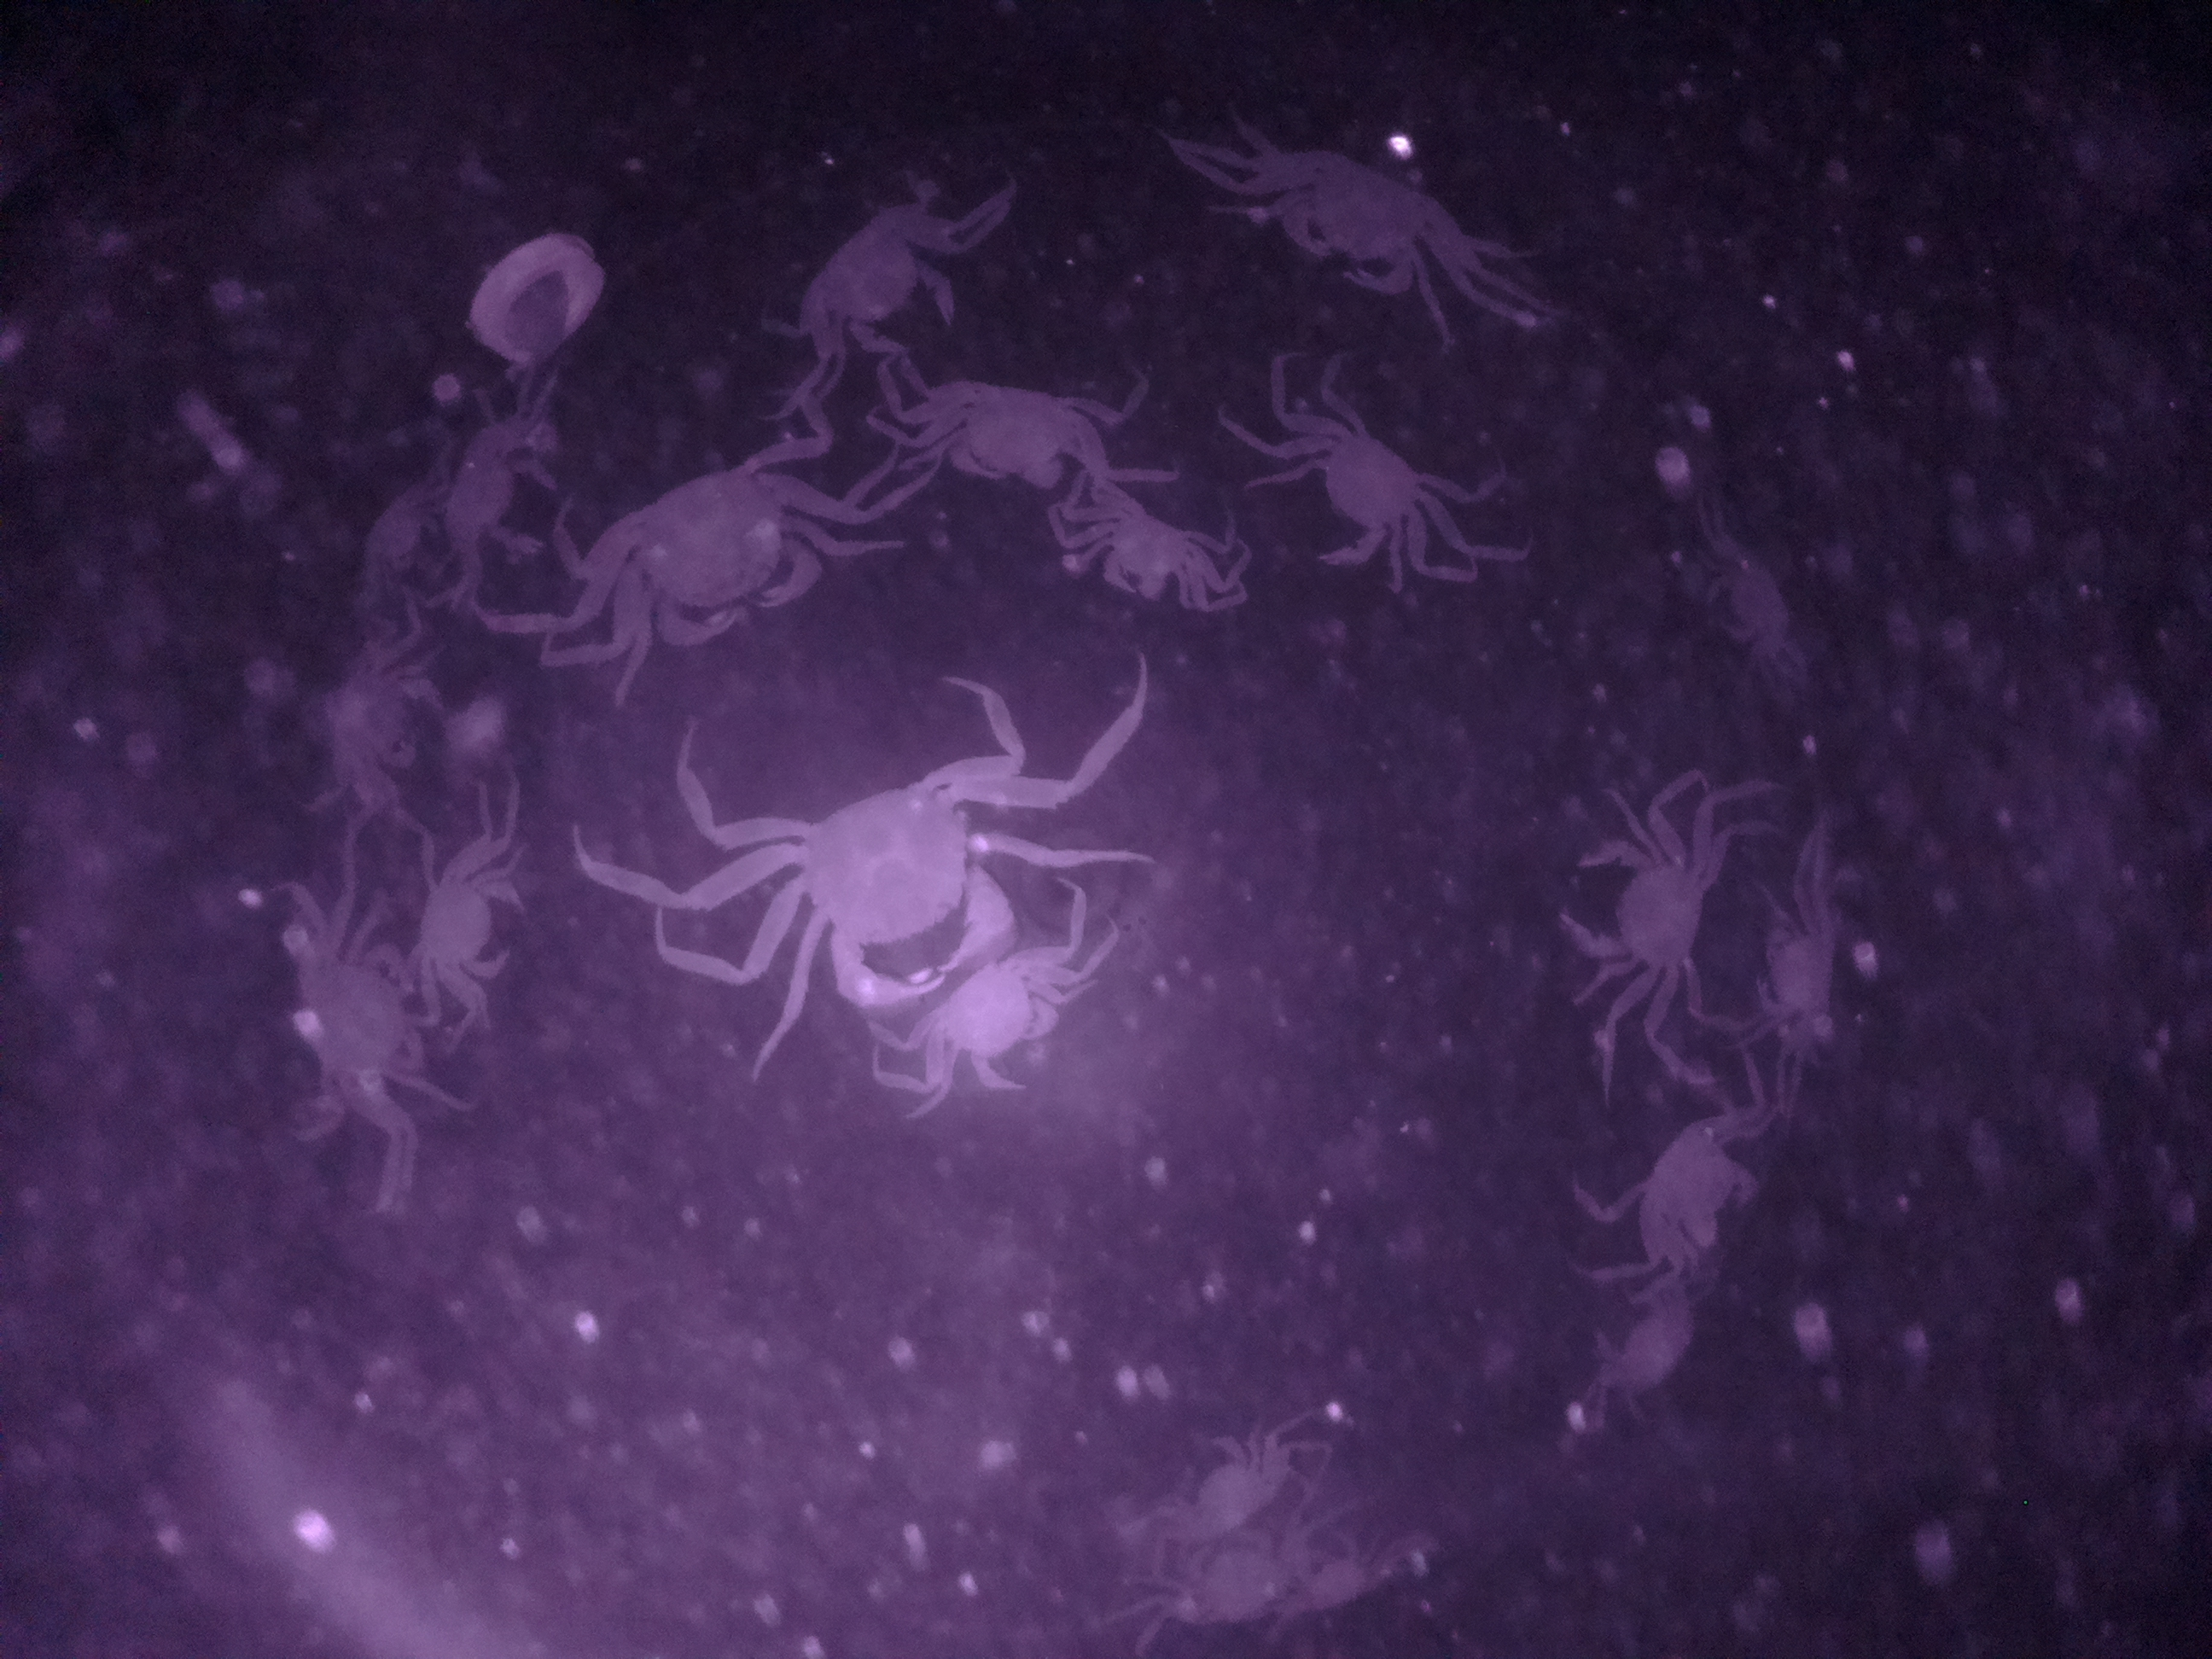Crab: (763, 753, 1040, 1012), (592, 448, 841, 653), (1231, 129, 1489, 298), (887, 936, 1089, 1121), (1261, 408, 1467, 582), (1552, 826, 1726, 1011), (792, 202, 981, 373), (1625, 1093, 1771, 1298), (914, 362, 1109, 505), (1064, 491, 1238, 608), (308, 652, 451, 793), (1144, 1417, 1299, 1546), (413, 843, 531, 1007)
